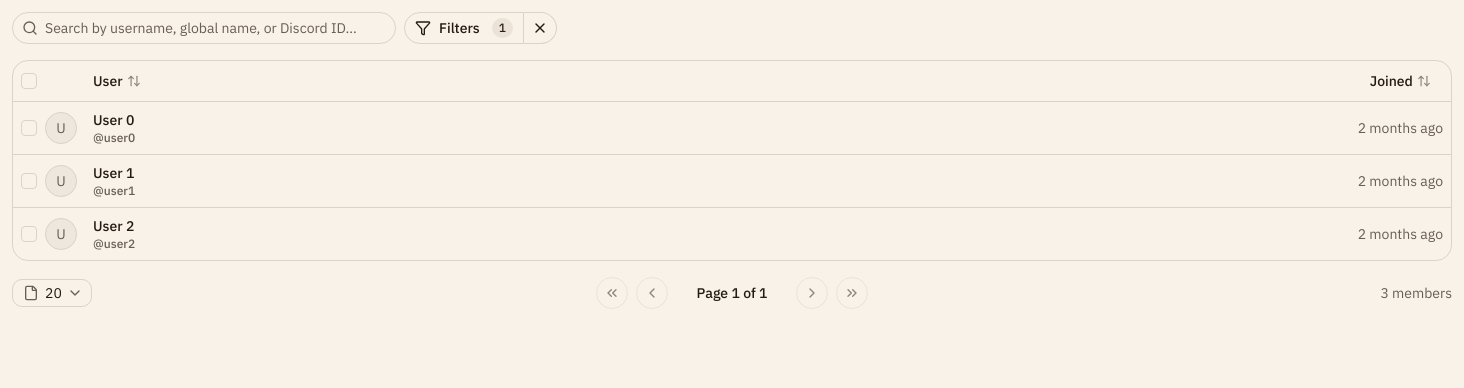
Test: MembersTable › shows the bulk toolbar with the selected count and a Clear button
What coordinates should you click on to do the following:
click the checkbox named "select row" in the row of "User 0"
I would click on:
 (29, 128)
Its box is [21,120,37,136].
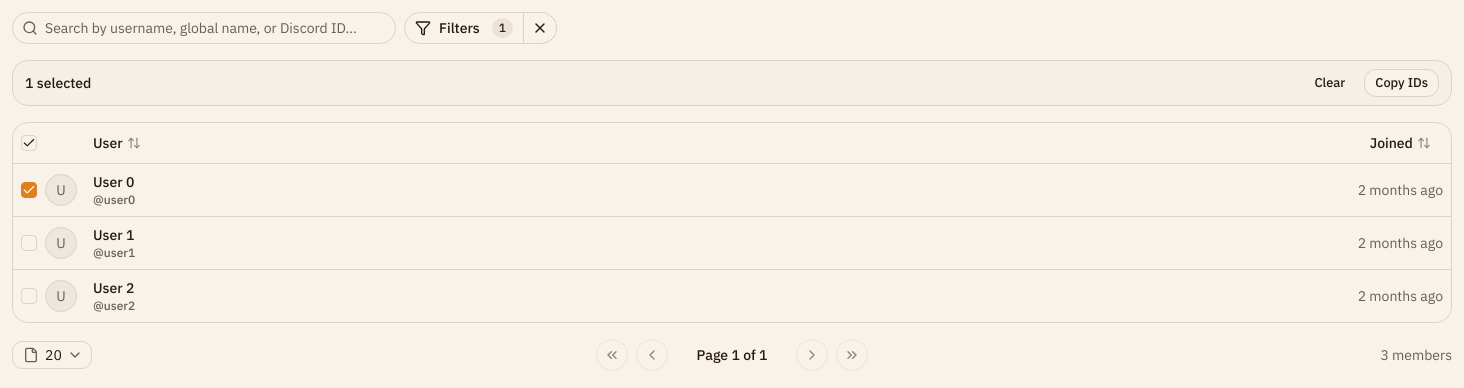
What coordinates should you click on to do the following:
click the checkbox named "select row" in the row of "User 2"
I would click on:
 (29, 296)
Its box is [21,288,37,304].
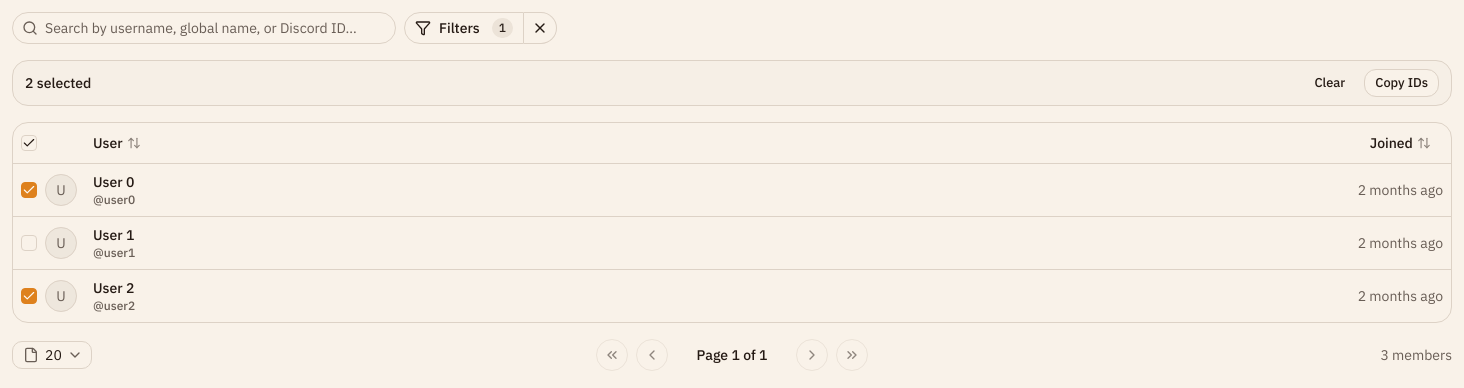
Check: the text "2 selected" is shown, box [25,73,91,93]
What coordinates should you click on to do the following:
click the button "Clear"
I would click on:
 (1330, 83)
Its box is [1304,69,1356,97].
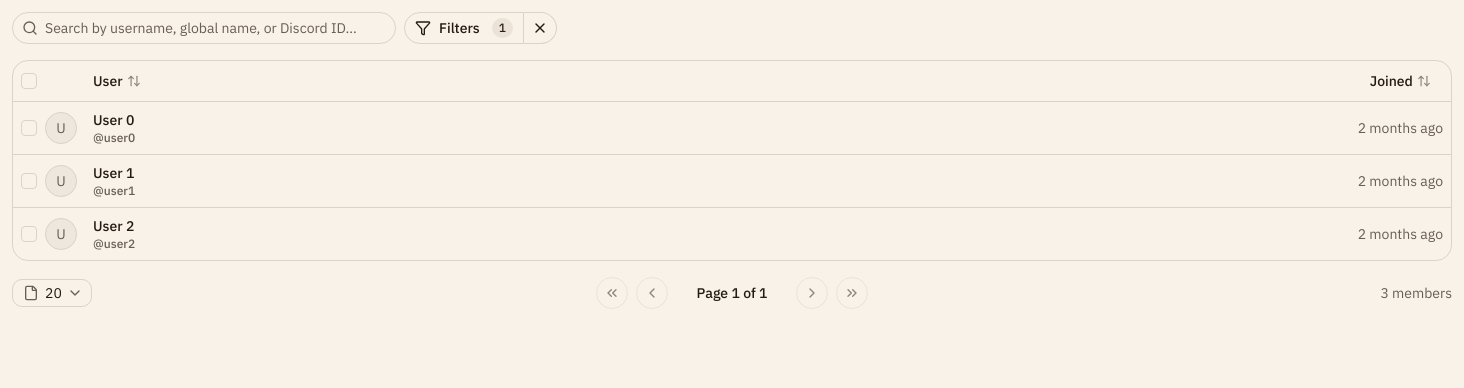
Check: the text "selected" is gone
